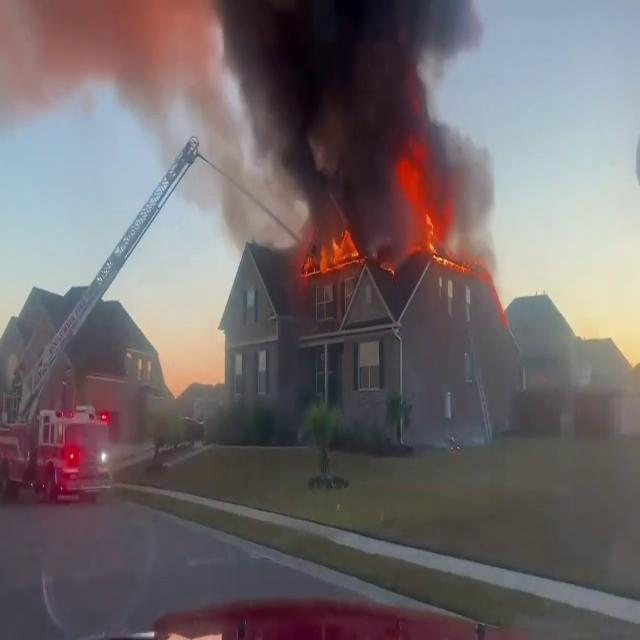Fire: (396, 152, 470, 274), (311, 220, 360, 276)
Smoke: (212, 0, 498, 246), (0, 0, 244, 208)
